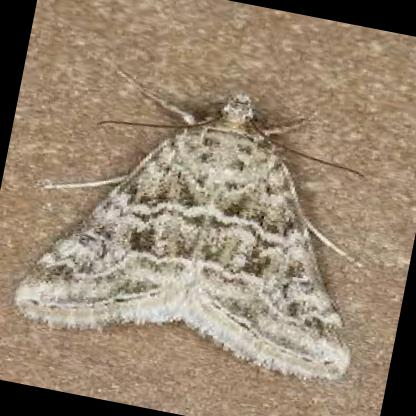Hellula undalis: (8, 52, 389, 386)
